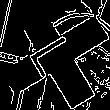L_NE: (25, 29, 85, 81)
